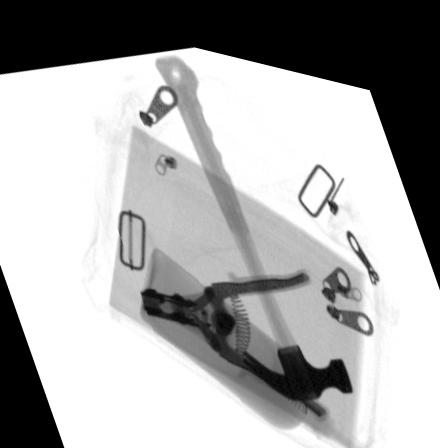Hammer: (153, 45, 354, 387)
Pliers: (139, 252, 329, 405)
